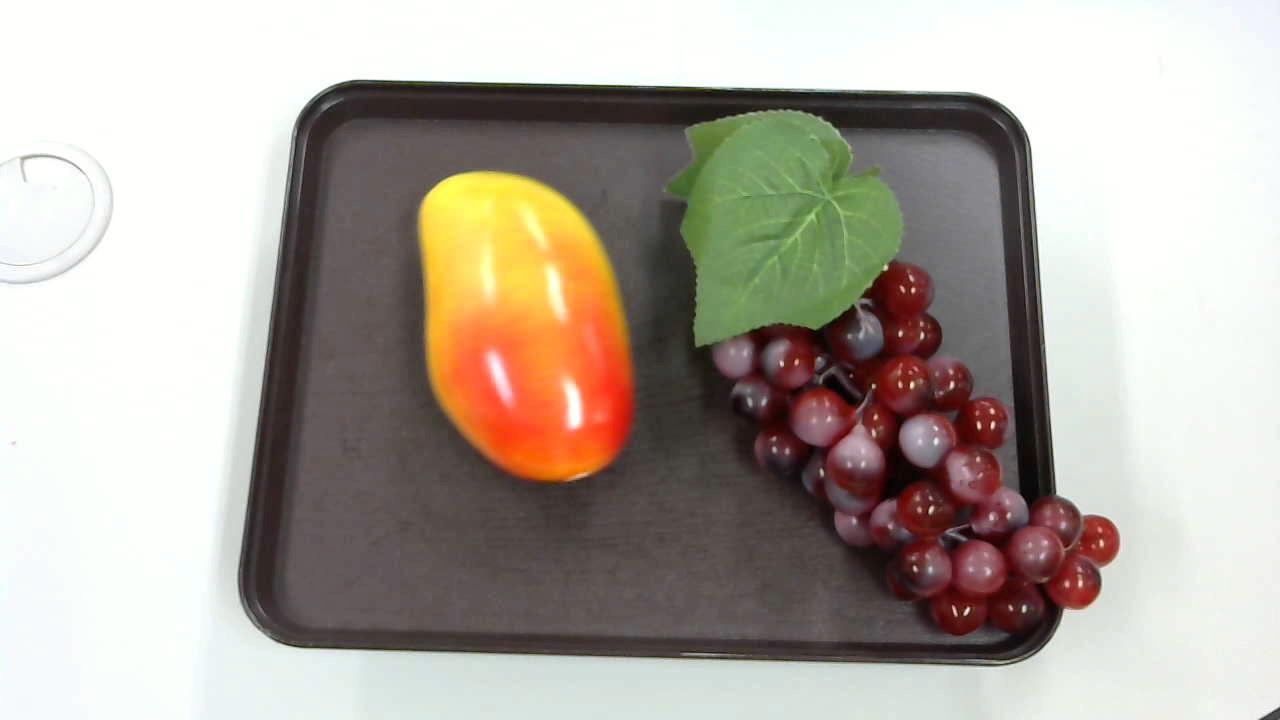grape: (654, 107, 1122, 641)
red mango: (410, 166, 637, 491)
